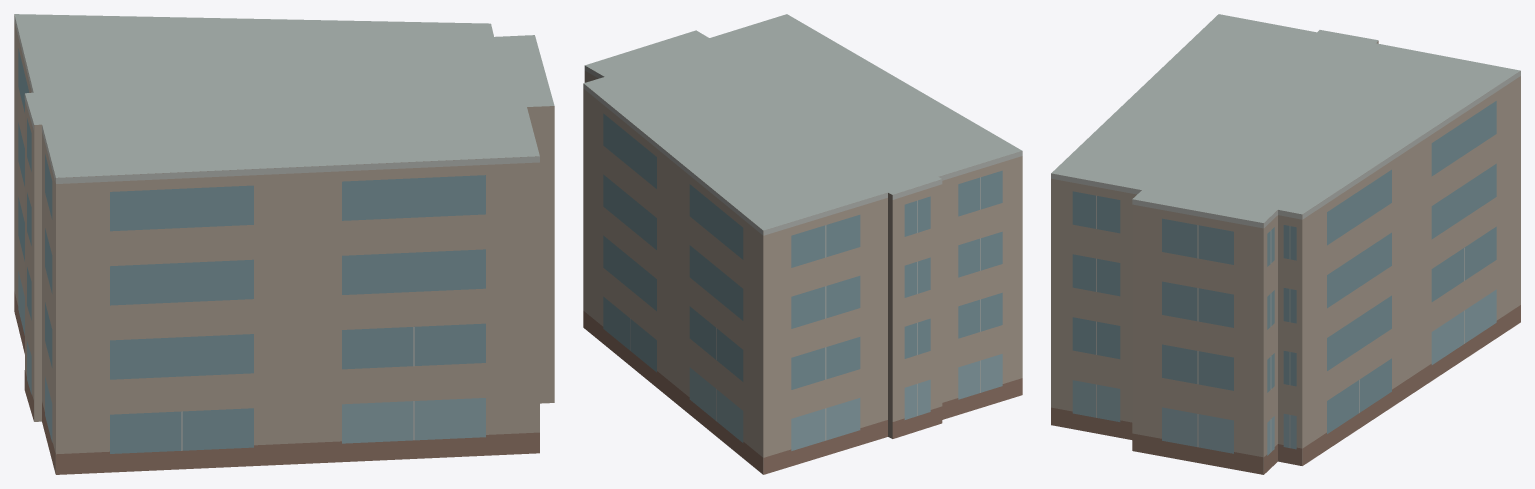
File: survey-upis-32957966.glb
The picture shows the model from 3 angles, left to right: view 1: azimuth 30°, elevation 25°; view 2: azimuth 150°, elevation 25°; view 3: azimuth 270°, elevation 25°; orthographic projection. The views are drawn at different scales.
Visible parts, largest first — view 1: survey-upis-32957966.tmp; view 2: survey-upis-32957966.tmp; view 3: survey-upis-32957966.tmp.
Part boxes in pixels (x1,y1,x2,y2): survey-upis-32957966.tmp: [14, 14, 554, 474]; survey-upis-32957966.tmp: [583, 14, 1022, 474]; survey-upis-32957966.tmp: [1051, 14, 1520, 474].
Size of the model in its own units: 20.68 by 11.6 by 19.63.
